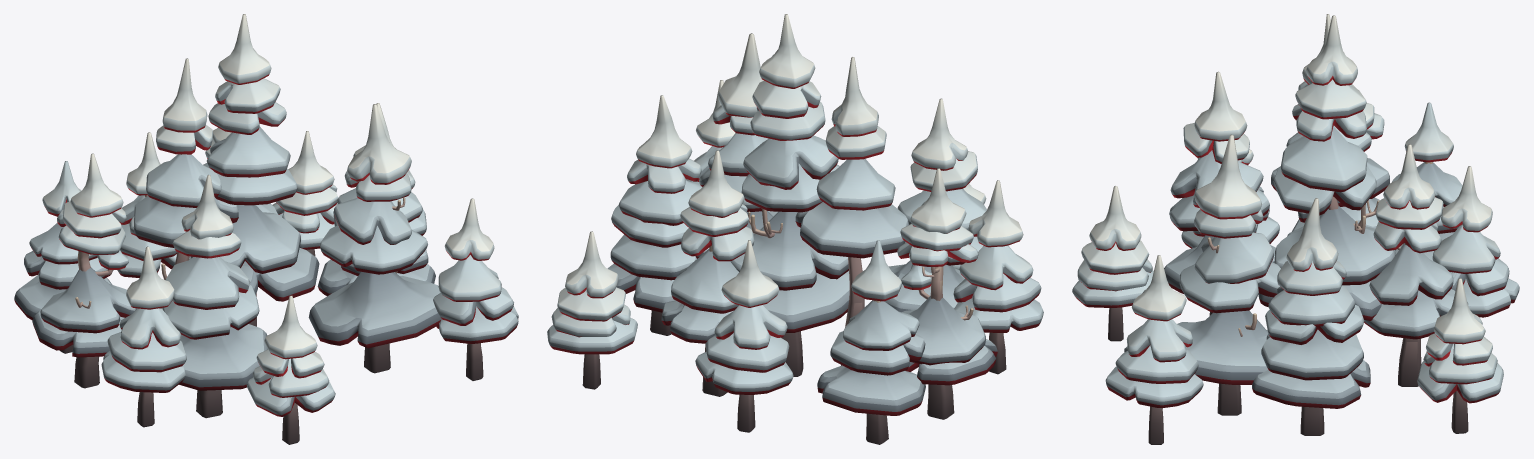
File: pine_tree_arrangement_col3_snow.fbx
3 renders of one model, left to right at view 1: azimuth 30°, elevation 25°; view 2: azimuth 150°, elevation 25°; view 3: azimuth 270°, elevation 25°, orthographic. The views are drawn at different scales.
Visible parts, largest first — view 1: pine_tree_arrangement_col3_snow; view 2: pine_tree_arrangement_col3_snow; view 3: pine_tree_arrangement_col3_snow.
Boxes of the visible parts, x1=… form: pine_tree_arrangement_col3_snow: x1=14, y1=14, x2=518, y2=444; pine_tree_arrangement_col3_snow: x1=547, y1=14, x2=1043, y2=444; pine_tree_arrangement_col3_snow: x1=1072, y1=14, x2=1519, y2=444.
Bounding box in the file's own units: 1866 × 1578 × 1802.
Materials: 1 (1 with a texture image).
